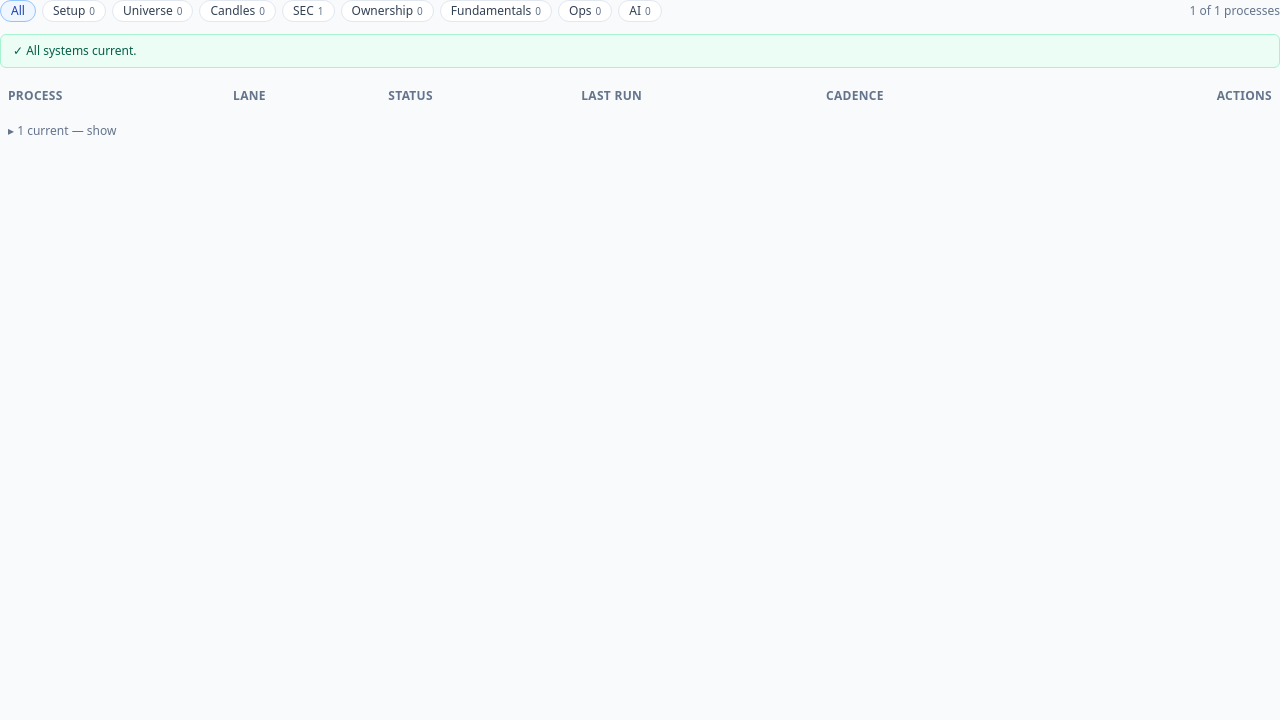
Test case: ProcessesTable › scheduled_job full-wash modal keeps original watermark copy
Click the button "▸ 1 current — show": (62, 131) [8, 123, 116, 139]
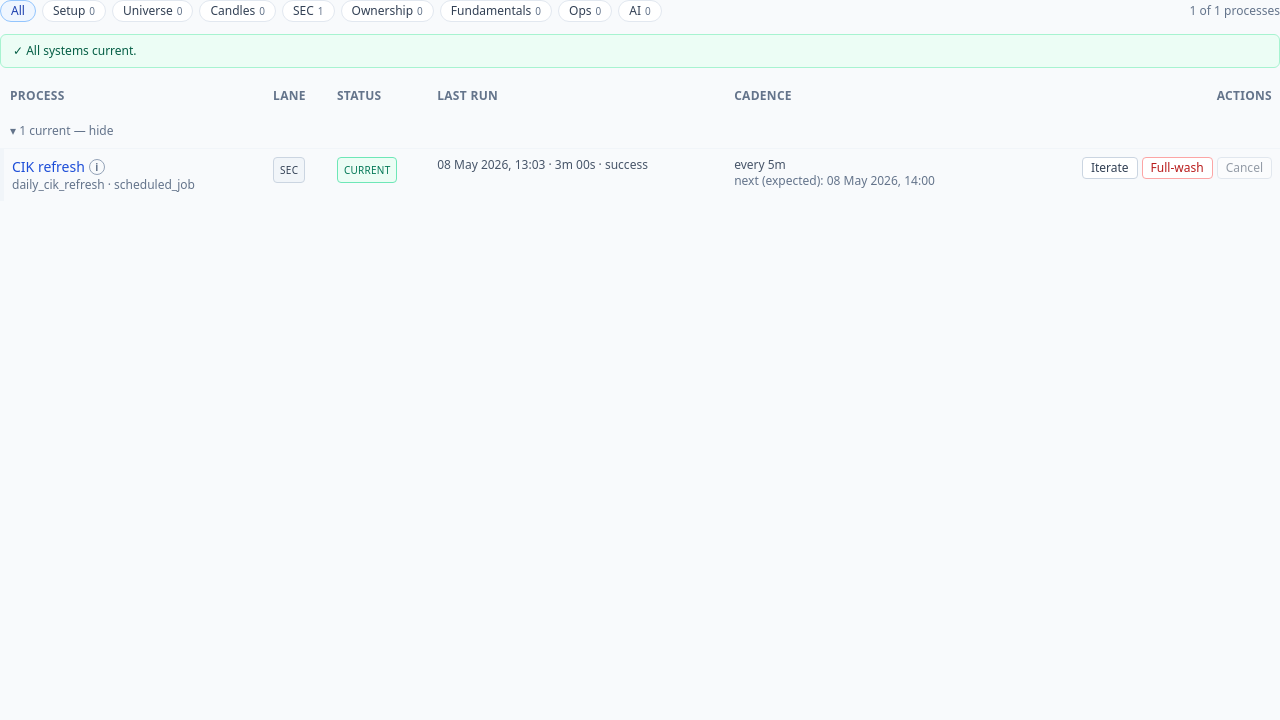
Click the button "Full-wash": (1177, 168) [1142, 157, 1213, 179]
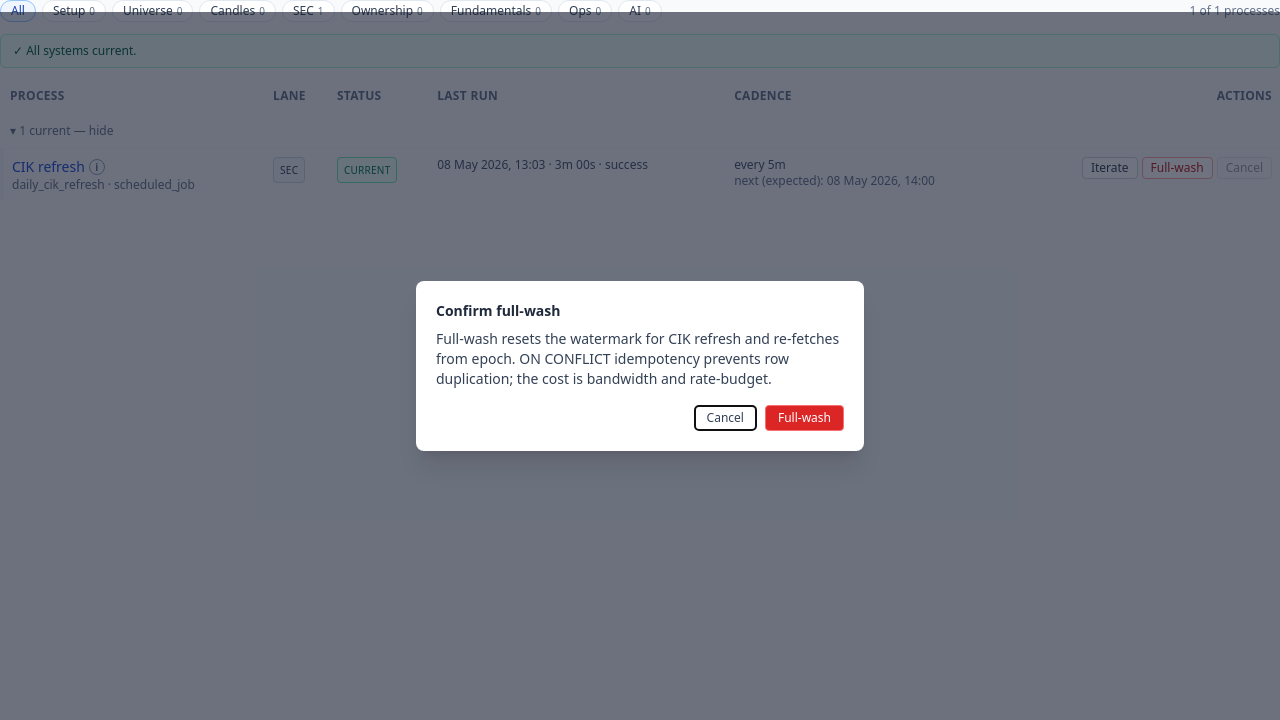
Now the heading "Confirm full-wash" is shown, box [436, 301, 560, 320]
Now the text "resets the watermark" is shown, box [436, 329, 839, 388]
